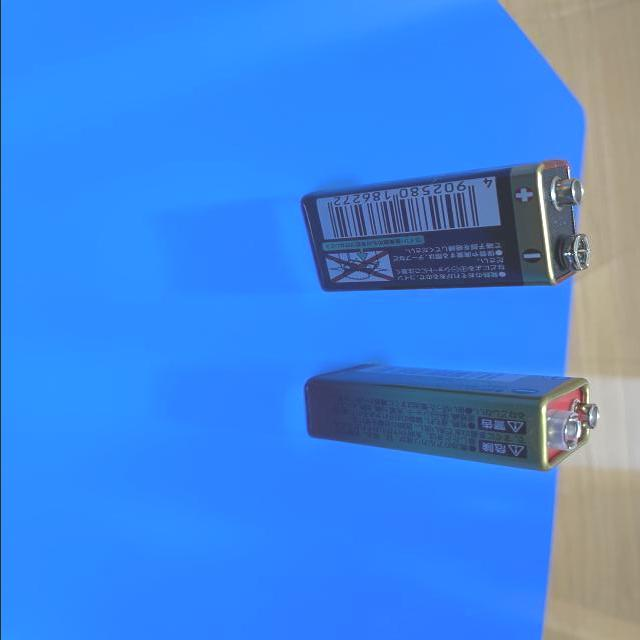9V: (301, 159, 588, 293), (302, 362, 598, 472)
